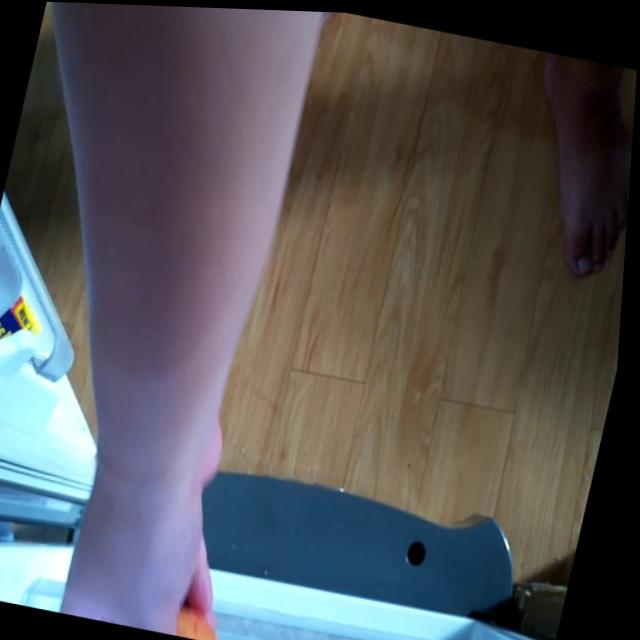apple: (178, 601, 232, 640)
